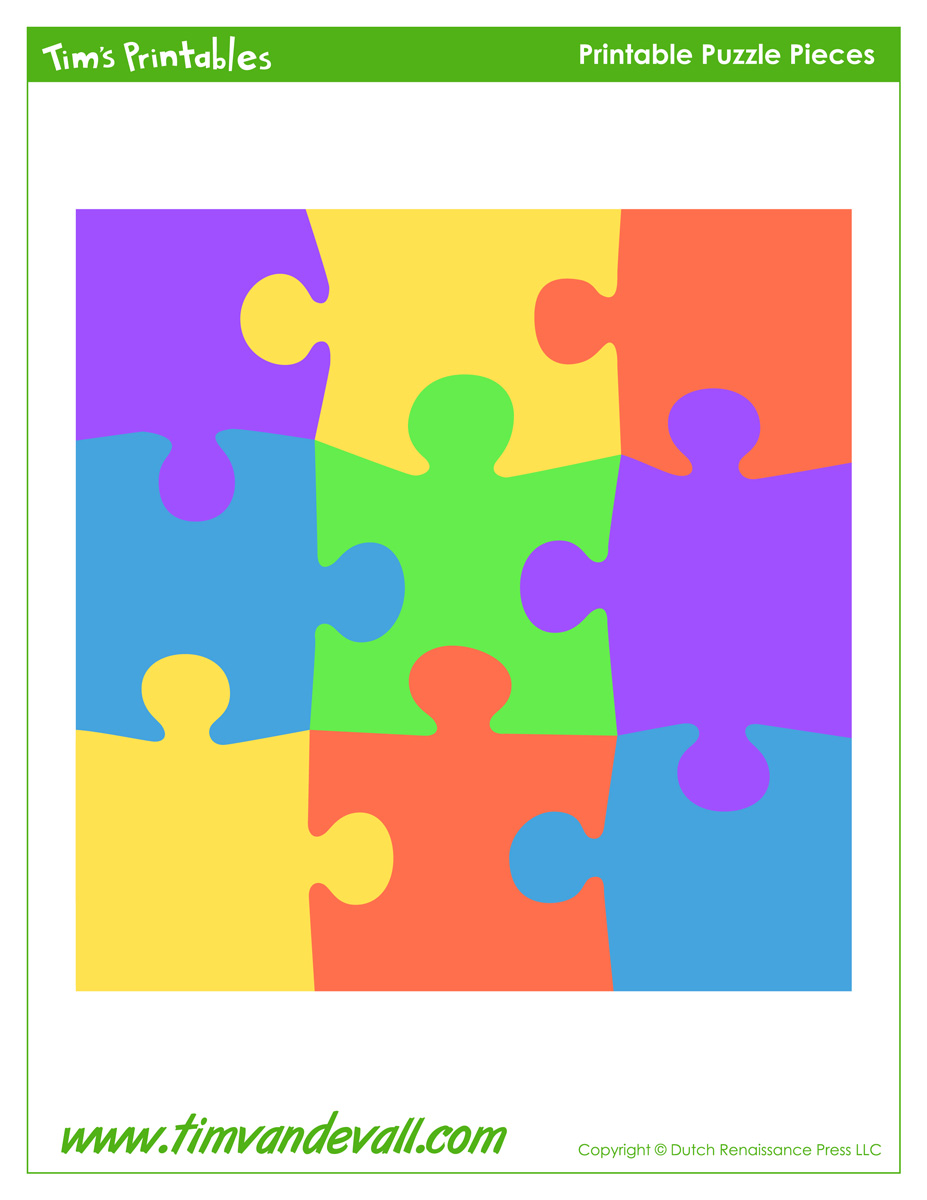puzzle piece: (303, 354, 654, 752)
